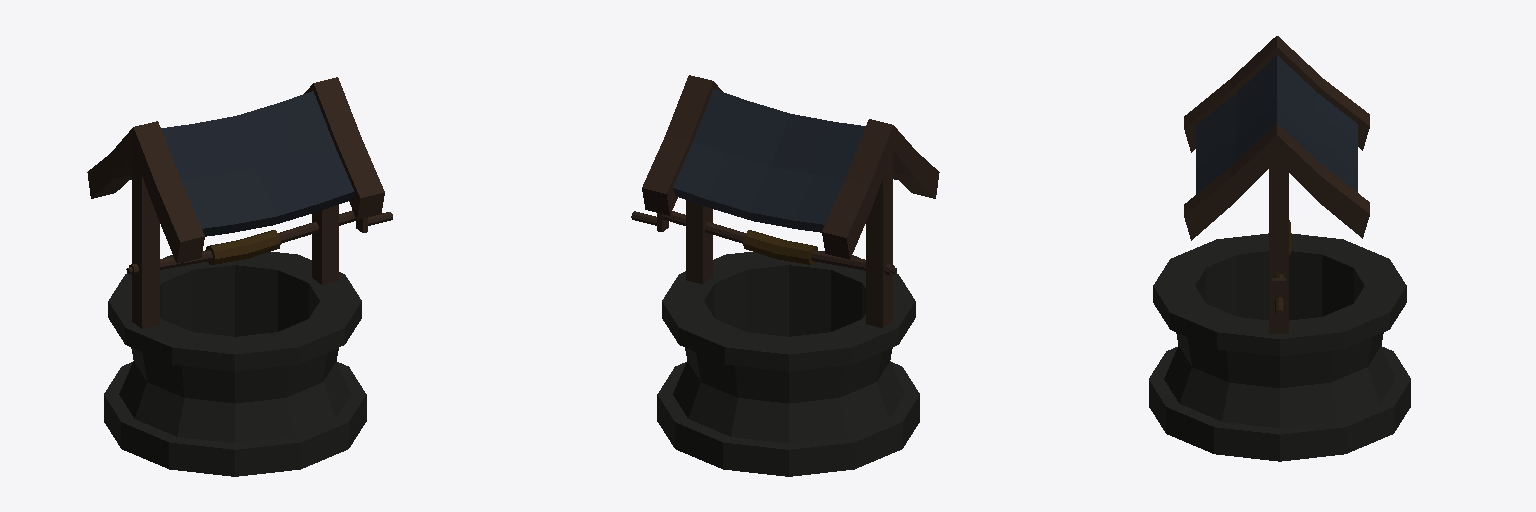
Rendered from SM_Well_02.obj.
3 views of the same model, side by side, from view 1: azimuth 30°, elevation 25°; view 2: azimuth 150°, elevation 25°; view 3: azimuth 270°, elevation 25° (orthographic).
Visible parts, largest first — view 1: SM_Well:SM_Well1; view 2: SM_Well:SM_Well1; view 3: SM_Well:SM_Well1.
Part boxes in pixels (x1,y1,x2,y2): SM_Well:SM_Well1: (87, 77, 392, 476); SM_Well:SM_Well1: (631, 75, 939, 476); SM_Well:SM_Well1: (1149, 36, 1410, 461).
Size of the model in its own units: 2.76 by 3.14 by 2.33.